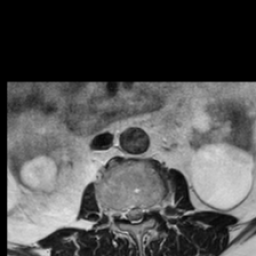CCS_stenosis: (132, 198, 139, 230)
LFS_normal: (146, 193, 154, 221)
LLS_normal: (139, 197, 146, 225)
RFS_normal: (116, 199, 124, 227)
RLS_normal: (124, 199, 132, 227)
